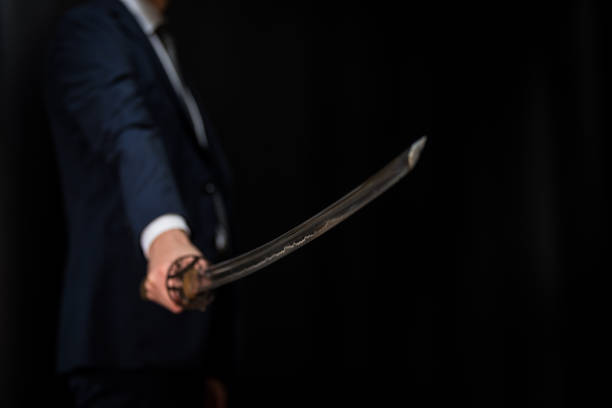knife: (164, 134, 428, 311)
